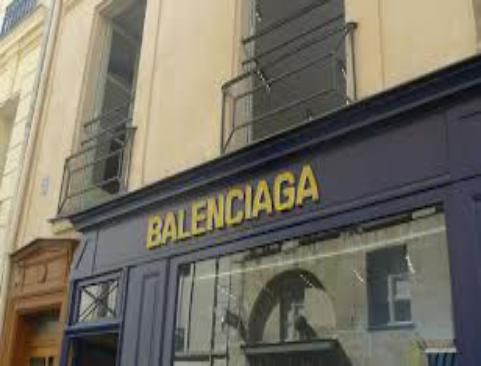BALENCIAGA: (142, 162, 320, 249)
